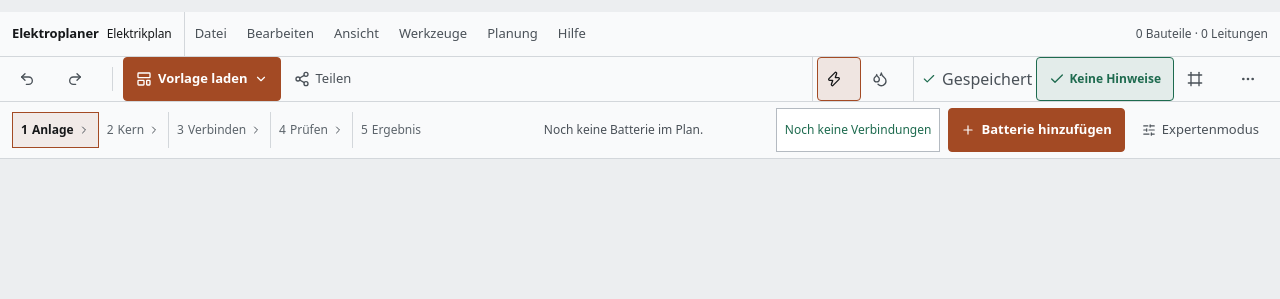
Scenario: PlannerDashboard - Core Interactions › bietet Vorlage laden und Teilen schon im geführten Modus an
The width and height of the screenshot is (1280, 299).
Check: the button with test id "action-share" is shown, box [284, 57, 360, 101]
Click the button with test id "action-templates" at (202, 79), box [123, 57, 280, 101]
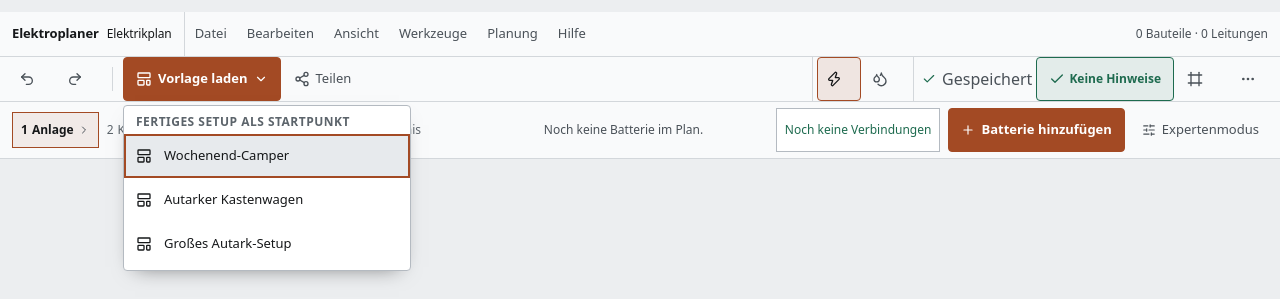
Check: the menu item with test id "toolbar-template-minimalist" is shown, box [124, 134, 410, 178]
Check: the menu item with test id "toolbar-template-kastenwagen" is shown, box [124, 178, 410, 222]
Check: the menu item with test id "toolbar-template-autark" is shown, box [124, 222, 410, 266]
